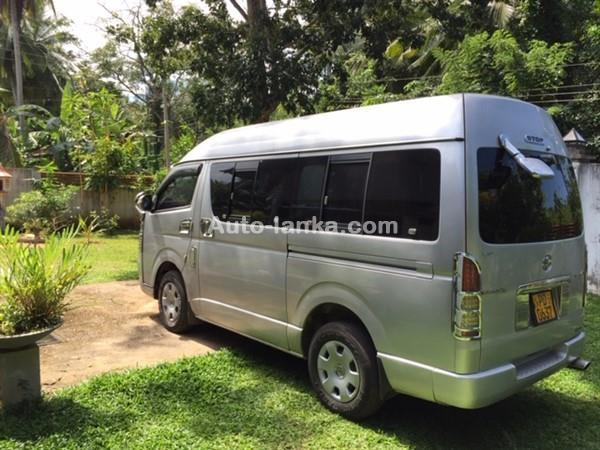car: (136, 94, 584, 422)
